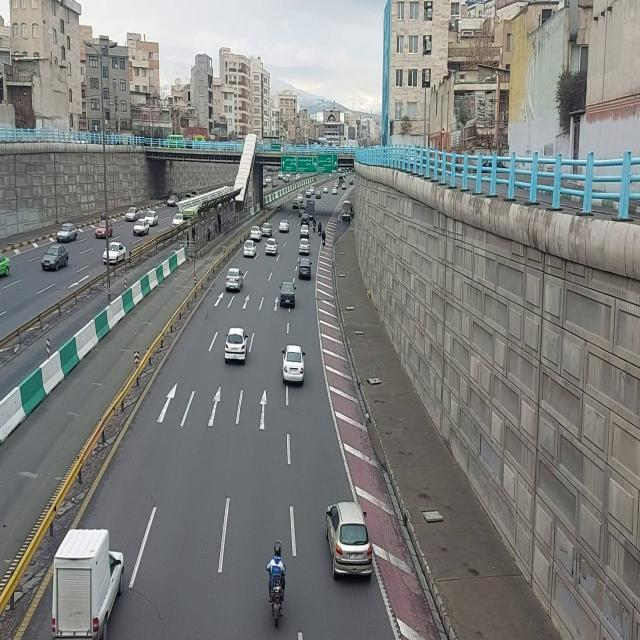Car: (325, 500, 374, 582), (282, 342, 306, 387), (225, 327, 249, 365), (41, 244, 70, 272), (102, 242, 126, 266), (279, 281, 297, 309), (226, 267, 244, 294), (56, 223, 78, 243), (95, 220, 113, 240), (298, 258, 312, 281), (134, 218, 150, 236), (243, 240, 257, 258), (145, 210, 159, 228), (266, 237, 279, 256), (125, 207, 139, 223), (250, 225, 262, 242), (261, 222, 273, 238), (299, 238, 311, 254), (172, 213, 184, 228), (279, 218, 290, 234), (167, 195, 179, 208), (300, 224, 310, 238), (301, 213, 310, 227), (292, 198, 300, 210), (299, 206, 307, 218), (297, 194, 305, 204), (306, 189, 312, 199), (323, 184, 329, 194), (332, 187, 338, 196), (310, 187, 316, 195), (315, 190, 321, 198), (341, 183, 347, 191)
Motorcycle: (267, 539, 287, 629), (322, 230, 326, 248), (318, 220, 322, 237), (313, 217, 317, 233)
Pickup: (49, 526, 125, 640)
